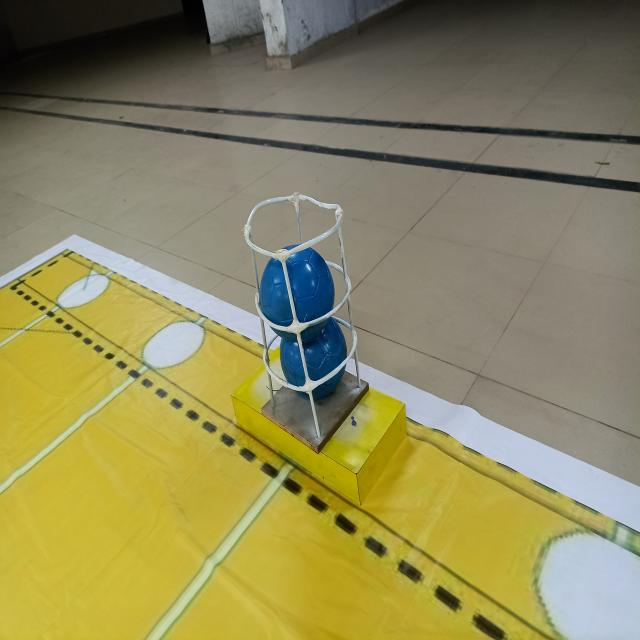blue_ball: (250, 234, 345, 340), (273, 307, 355, 409)
silo: (233, 164, 396, 472)
